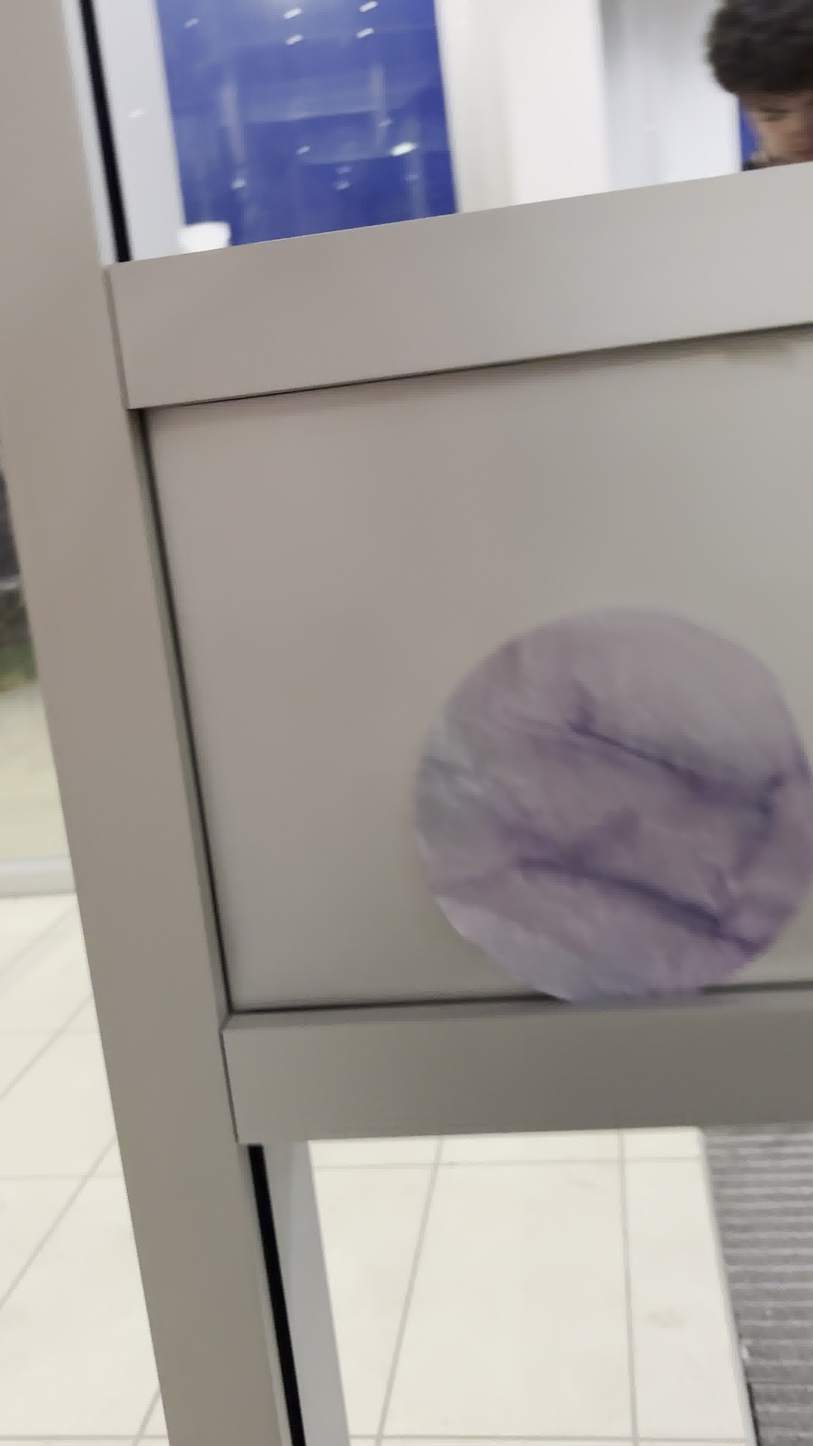Target: (403, 601, 813, 1011)
